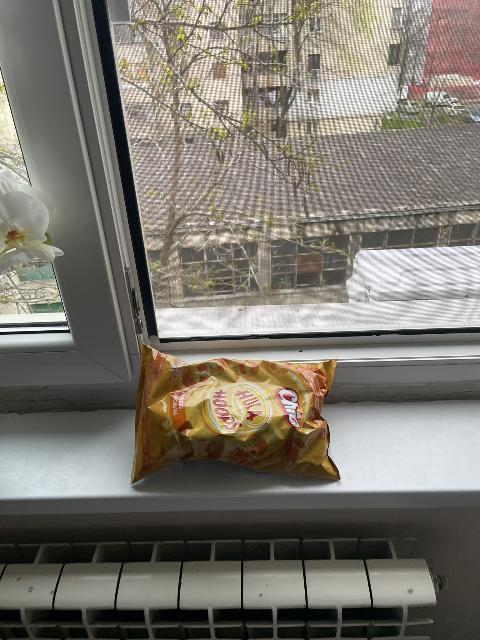Chio Hula Hoops Cheese 70g: (131, 343, 340, 478)
